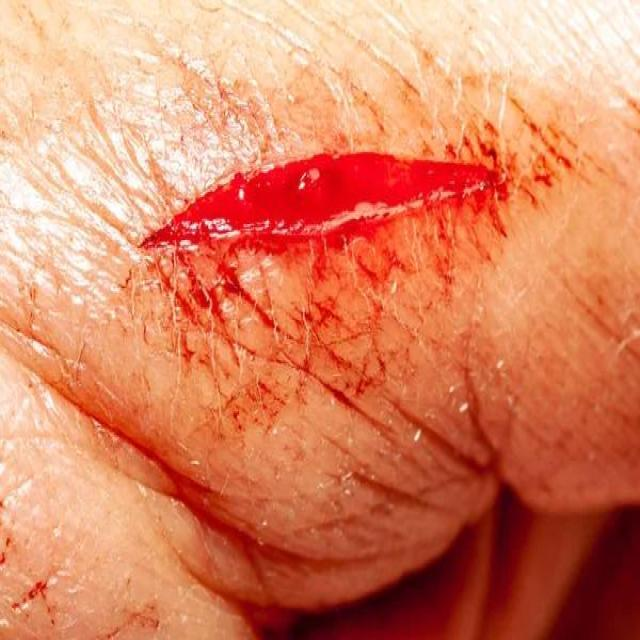flood: (135, 134, 536, 403)
